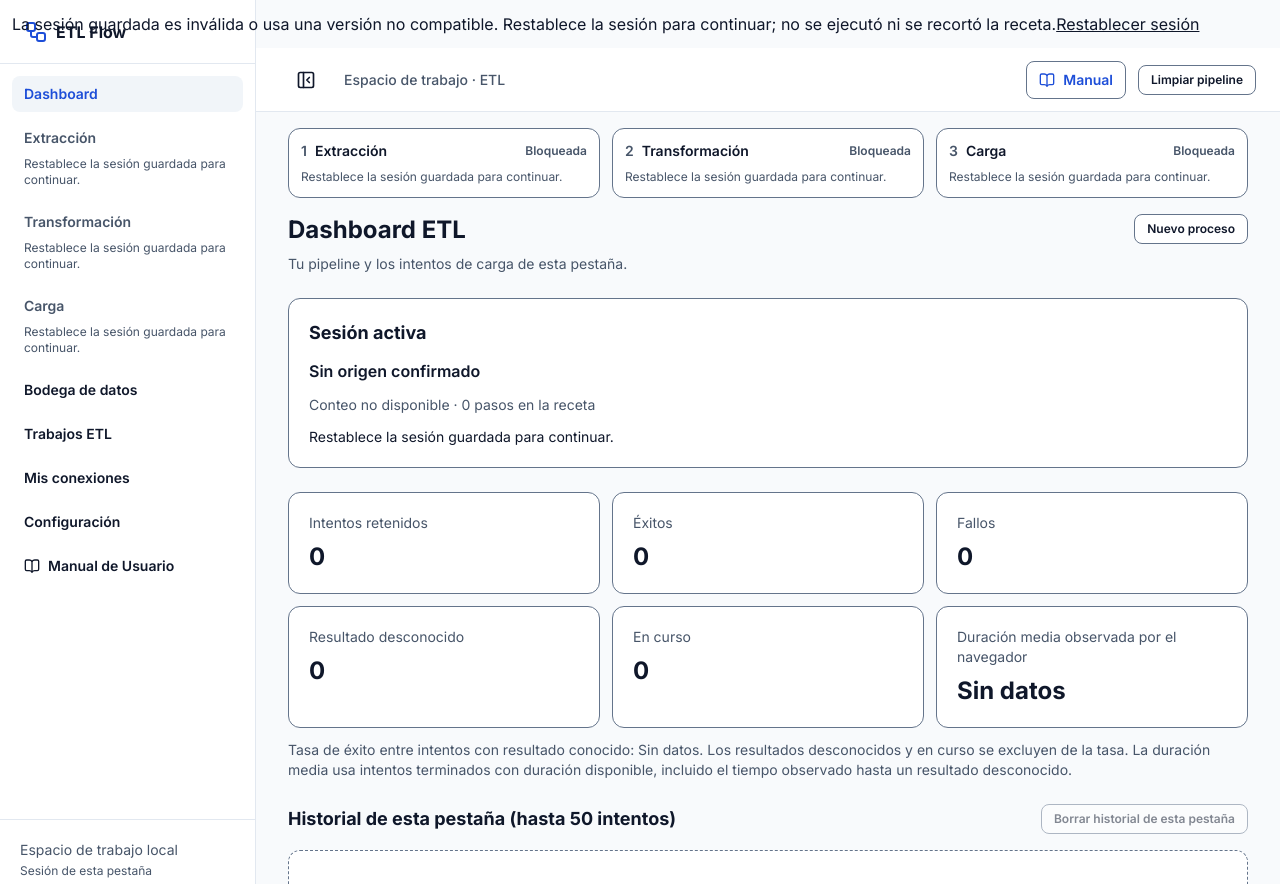
it: history metrics and presentation › restoration error is recoverable and leaves navigation usable
Check: the message shows "inválida", box [12,14,1056,34]
Click the button "Restablecer sesión" at (1128, 24), box [1056,12,1200,36]
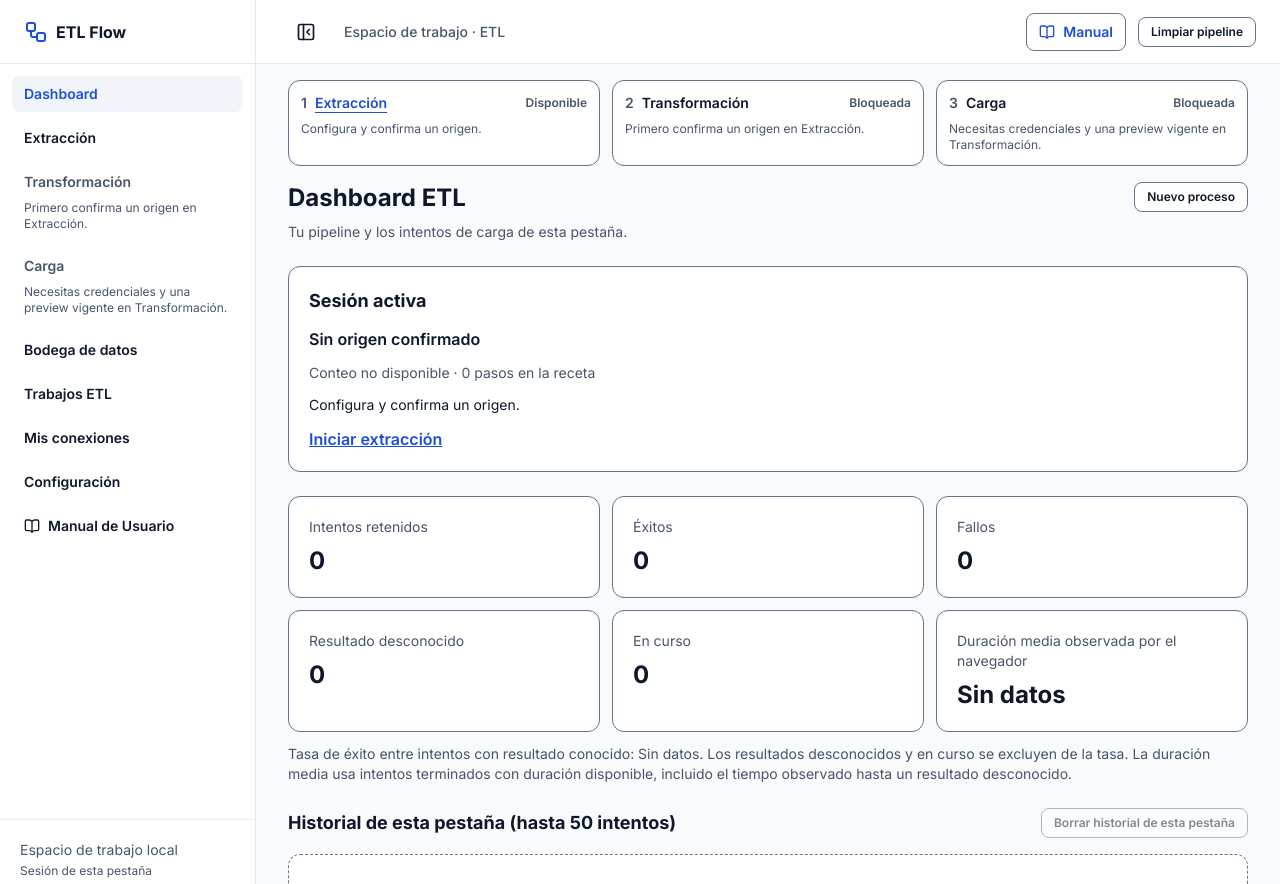
Check: the message is gone
